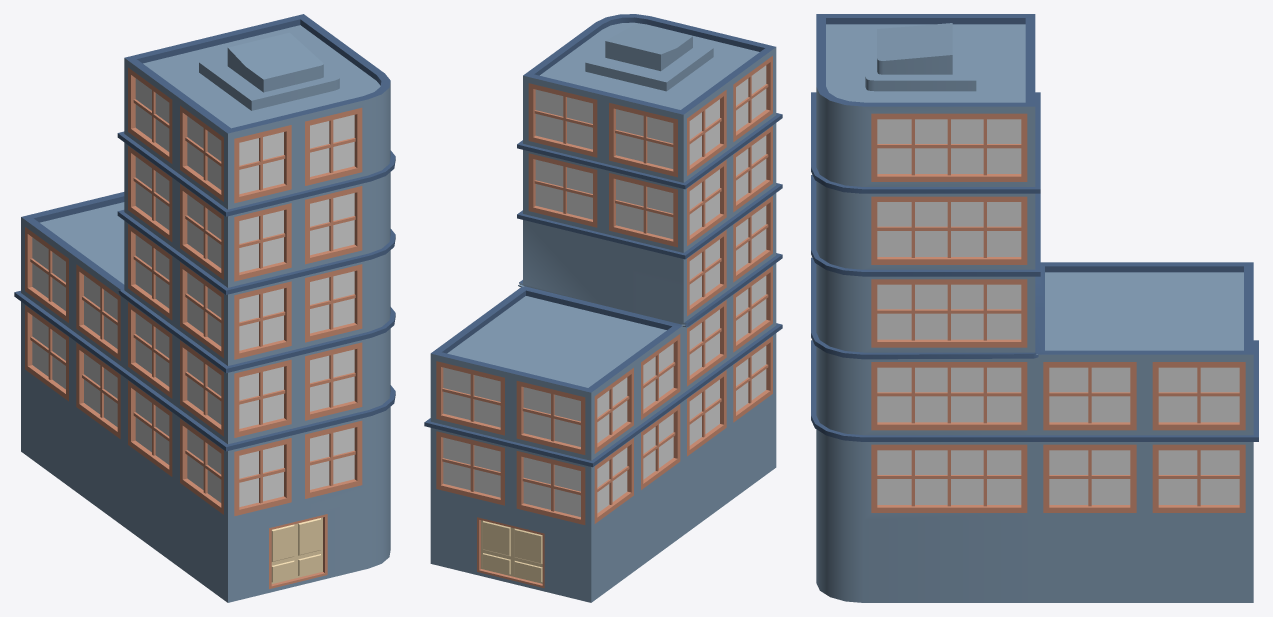
File: cb-apartment-D.fbx
3 views of the same model, side by side, from view 1: azimuth 30°, elevation 25°; view 2: azimuth 150°, elevation 25°; view 3: azimuth 270°, elevation 25° (orthographic). The views are drawn at different scales.
Visible parts, largest first — view 1: cb-apartment-D; view 2: cb-apartment-D; view 3: cb-apartment-D.
Part boxes in pixels (left/top/right/bottom): cb-apartment-D: left=14, top=14, right=395, bottom=602; cb-apartment-D: left=424, top=14, right=782, bottom=602; cb-apartment-D: left=811, top=14, right=1258, bottom=602.
Size of the model in its own units: 7.57 by 18.95 by 14.77.
